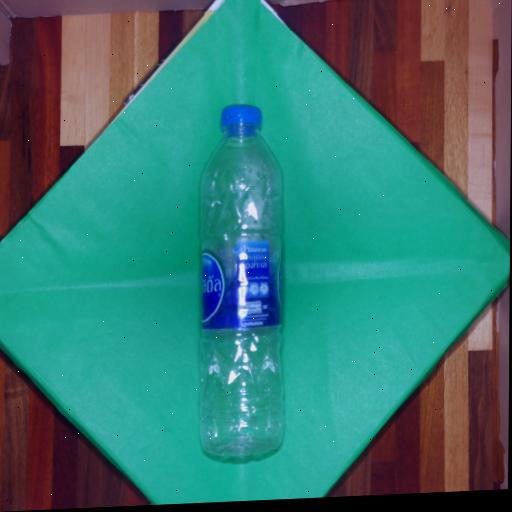bottle: (197, 91, 289, 465)
